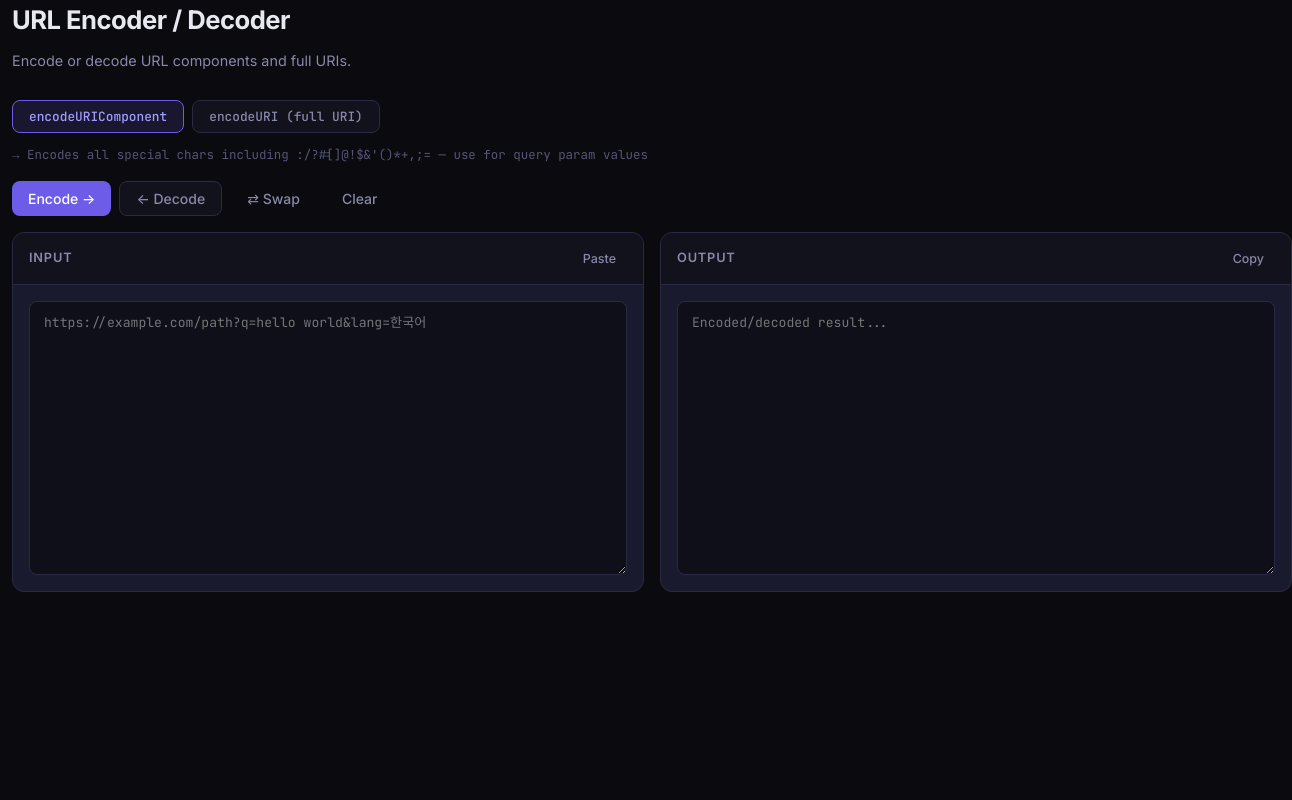
it: UrlEncoder › encodeURIComponent mode encodes slashes
Type "path/to/file" into the text box with placeholder "https://example.com/path?q=hello world&lang=한국어" at (328, 438), box [29,301,627,575]
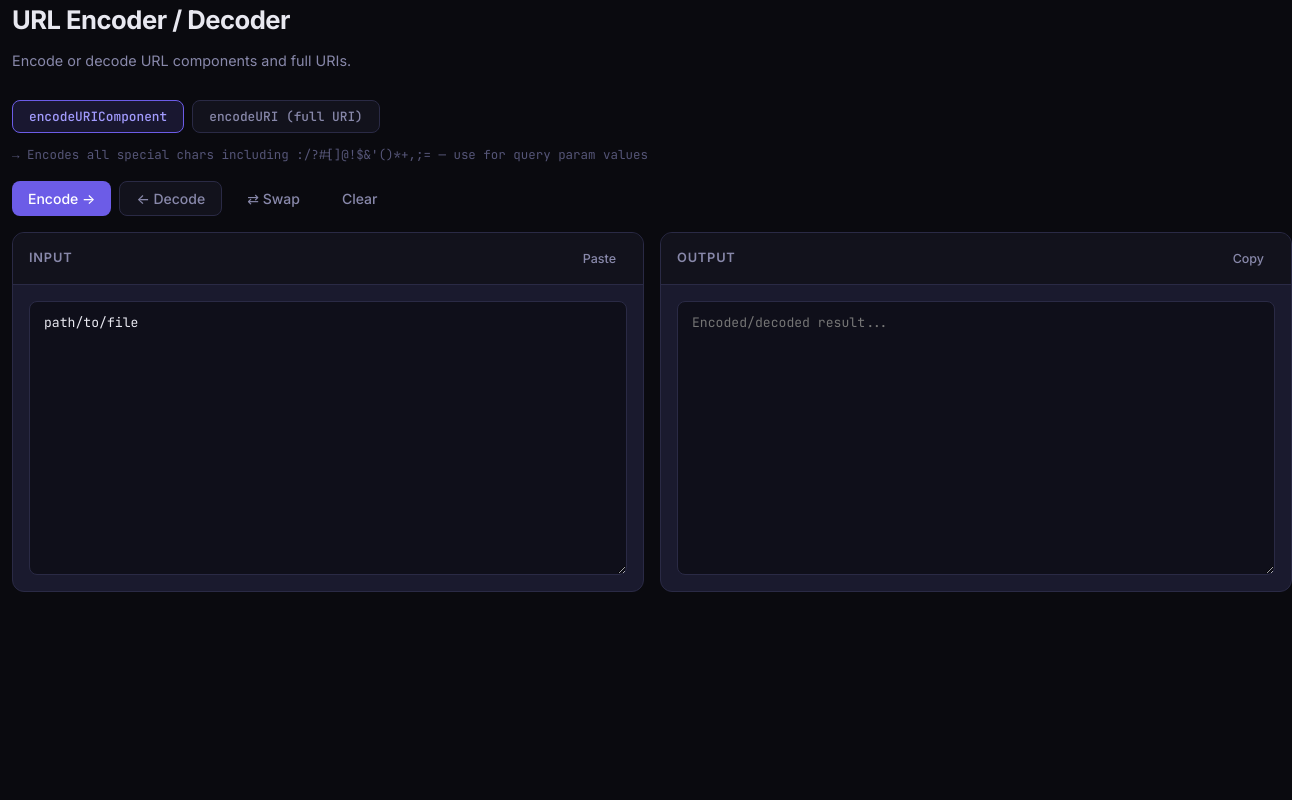
Click the button "Encode →" at (62, 198), box [12,181,111,216]
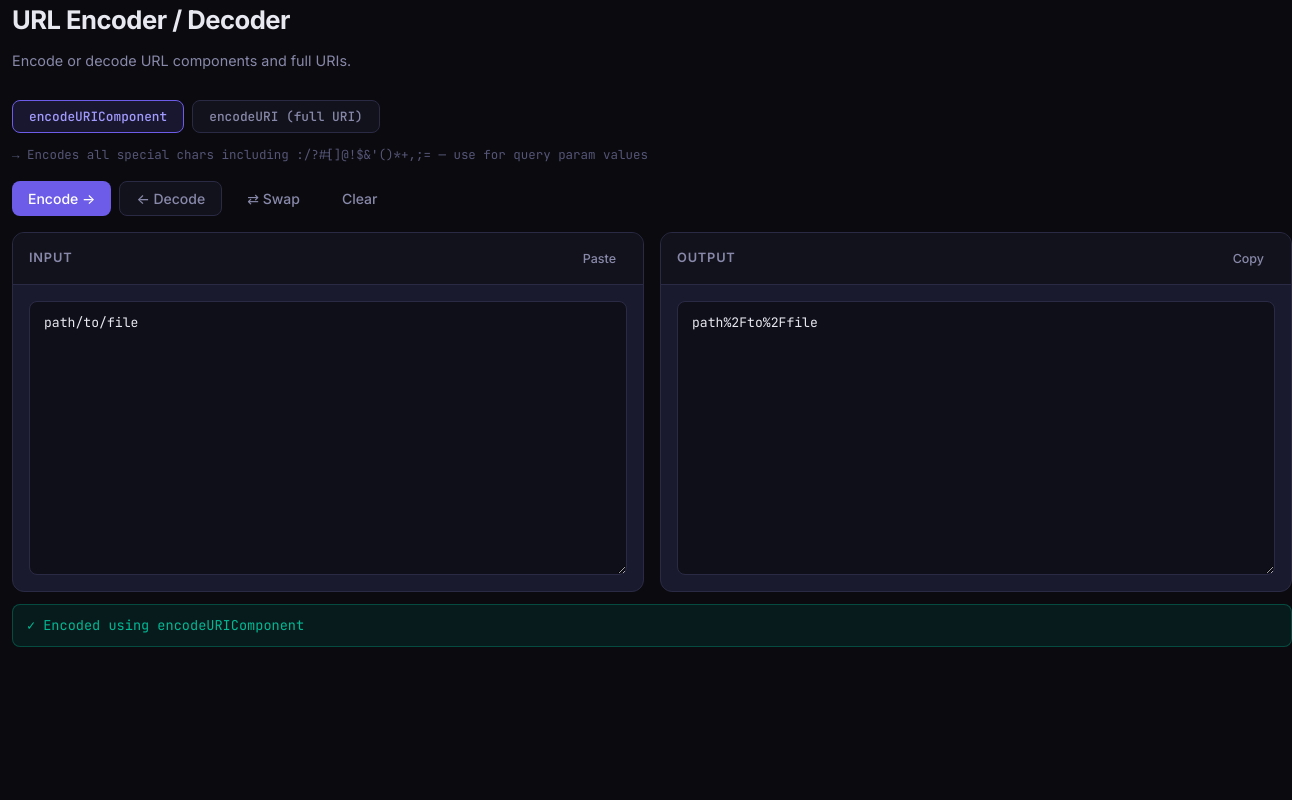
Expected: the text box below "Output" holds "path%2Fto%2Ffile", [677,301,1275,575]
